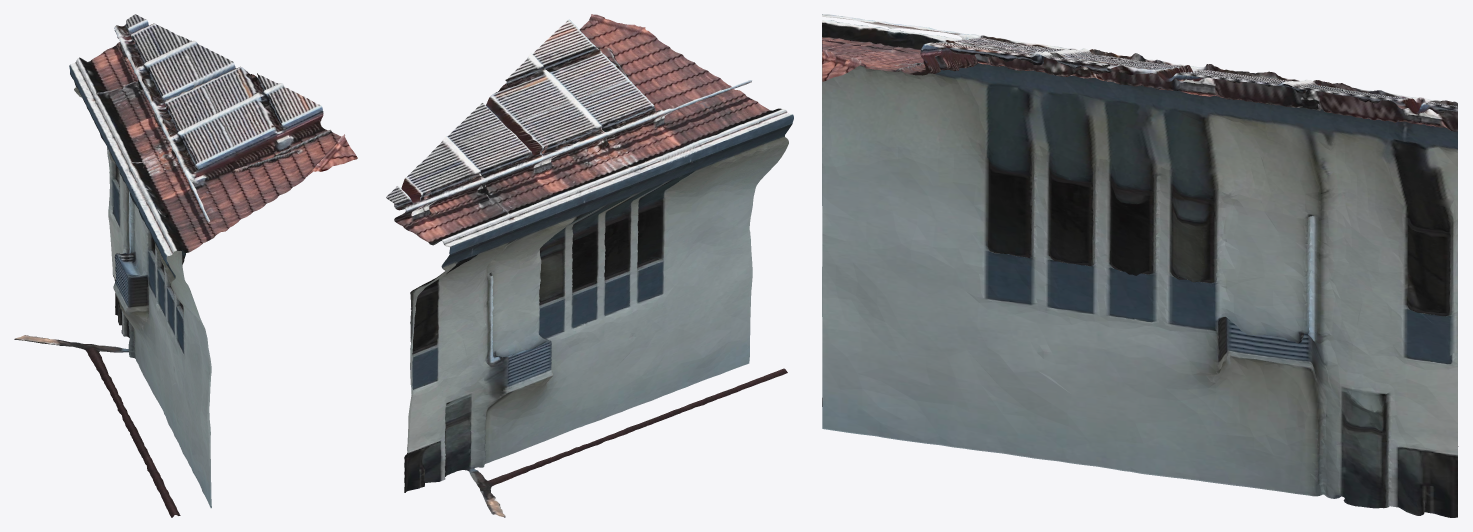
3 views of the same model, side by side, from view 1: azimuth 30°, elevation 25°; view 2: azimuth 150°, elevation 25°; view 3: azimuth 270°, elevation 25° (orthographic). The views are drawn at different scales.
Visible parts, largest first — view 1: node_152; view 2: node_152; view 3: node_152.
Boxes of the visible parts, <box> form: node_152: <box>14,14,357,517</box>; node_152: <box>386,14,793,517</box>; node_152: <box>822,14,1458,517</box>.
Bounding box in the file's own units: 5.49 × 9.31 × 11.01.
Materials: 1 (1 with a texture image).
